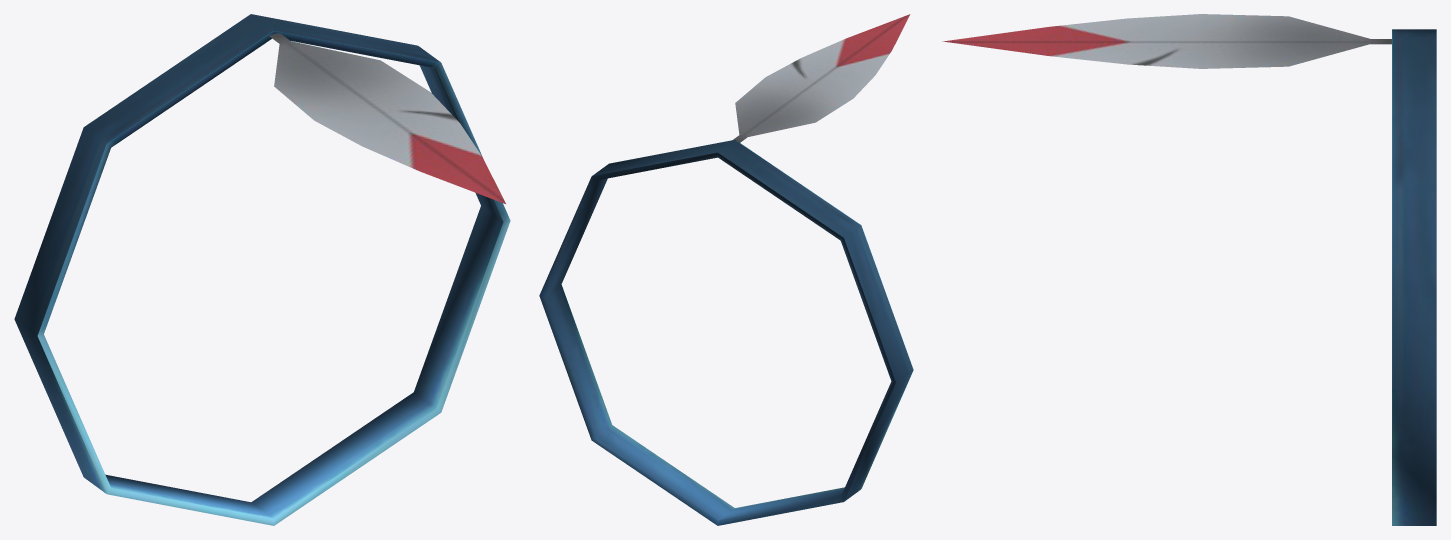
The model's file is tt_m_chr_avt_acc_hat_nativeAmericanFeather.glb.
3 views of the same model, side by side, from view 1: azimuth 30°, elevation 25°; view 2: azimuth 150°, elevation 25°; view 3: azimuth 270°, elevation 25° (orthographic). The views are drawn at different scales.
Parts seen in each view (by area): view 1: tt_m_chr_avt_acc_hat_nativeAmericanFeather; view 2: tt_m_chr_avt_acc_hat_nativeAmericanFeather; view 3: tt_m_chr_avt_acc_hat_nativeAmericanFeather.
Part boxes in pixels (left/top/right/bottom): tt_m_chr_avt_acc_hat_nativeAmericanFeather: left=14, top=14, right=510, bottom=525; tt_m_chr_avt_acc_hat_nativeAmericanFeather: left=539, top=14, right=913, bottom=525; tt_m_chr_avt_acc_hat_nativeAmericanFeather: left=942, top=14, right=1436, bottom=525.
Bounding box in the file's own units: 2.81 × 2.81 × 2.63.
1 material, 1 textured.
